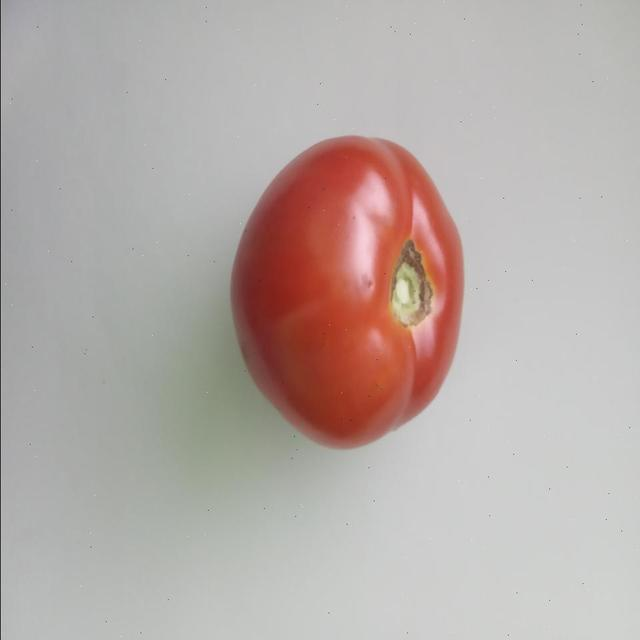Healthy Fruit: (152, 87, 310, 300)
